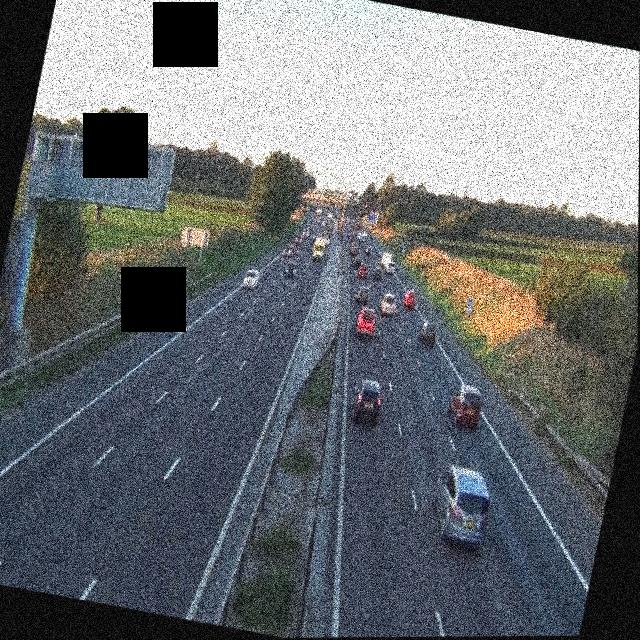bus: (311, 235, 329, 262)
car: (425, 463, 497, 549), (445, 382, 486, 431), (348, 377, 386, 426), (355, 309, 378, 340), (418, 320, 439, 345), (241, 267, 261, 291), (379, 293, 397, 316), (283, 258, 299, 280), (402, 290, 418, 310), (357, 285, 373, 305), (356, 261, 370, 278), (371, 268, 383, 284), (351, 253, 363, 268), (282, 244, 293, 257), (299, 230, 309, 243)
